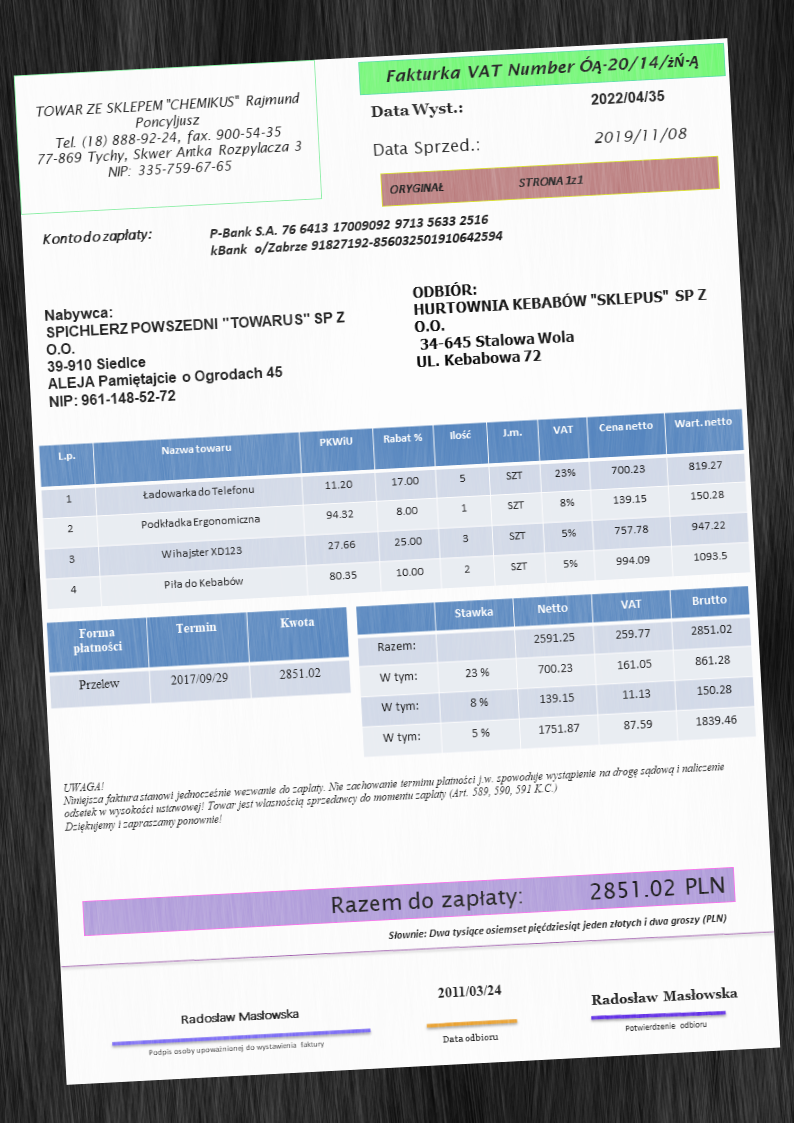Table: (37, 405, 751, 609), (352, 582, 757, 758), (46, 606, 351, 709)
TextBox: (61, 743, 731, 836), (40, 289, 353, 412), (408, 266, 714, 372), (28, 85, 308, 186), (328, 871, 727, 921), (204, 208, 508, 261), (380, 48, 703, 90), (385, 908, 731, 946), (384, 170, 588, 200), (146, 1034, 329, 1060), (587, 983, 739, 1011), (37, 221, 155, 251), (369, 134, 484, 162), (176, 1004, 303, 1027), (367, 97, 468, 124), (590, 122, 691, 149), (587, 85, 667, 109), (432, 980, 506, 1003), (623, 1017, 711, 1036), (439, 1028, 502, 1047)
